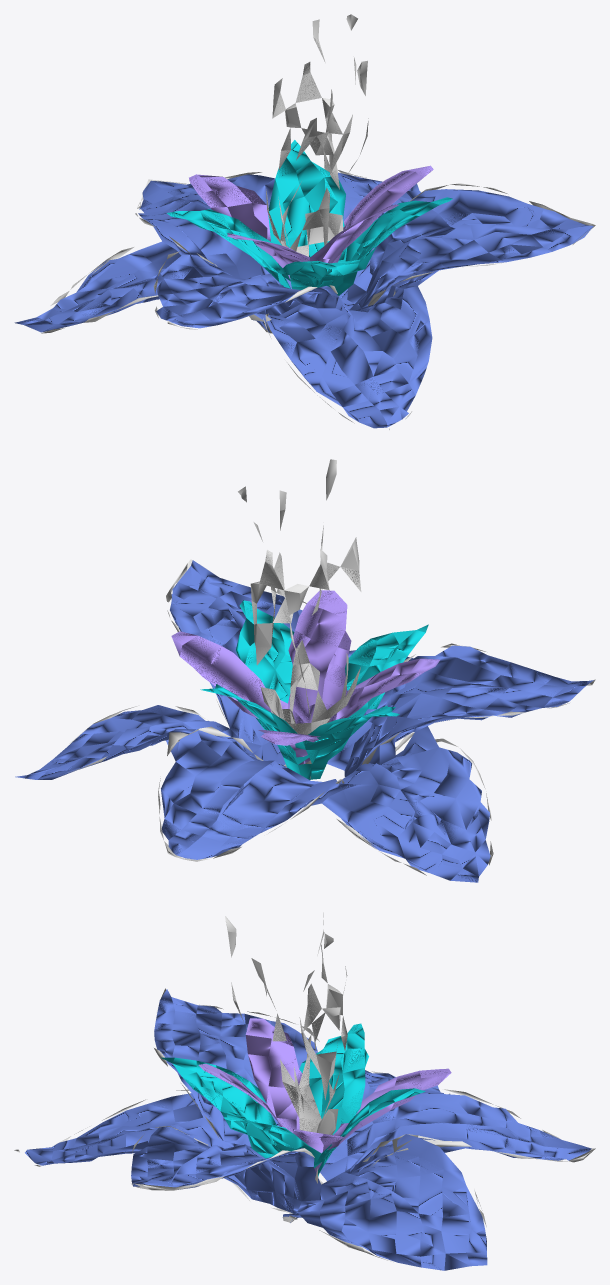
3 views of the same model, one above another, from view 1: azimuth 30°, elevation 25°; view 2: azimuth 150°, elevation 25°; view 3: azimuth 270°, elevation 25° (orthographic). The views are drawn at different scales.
Parts seen in each view (by area): view 1: 0dc9a4e8; view 2: 0dc9a4e8; view 3: 0dc9a4e8.
Boxes of the visible parts, x1,y1,x2,y2 form: 0dc9a4e8: (14, 14, 595, 429); 0dc9a4e8: (15, 459, 595, 882); 0dc9a4e8: (14, 912, 595, 1270).
Bounding box in the file's own units: 0.1214 × 0.078 × 0.1419.
